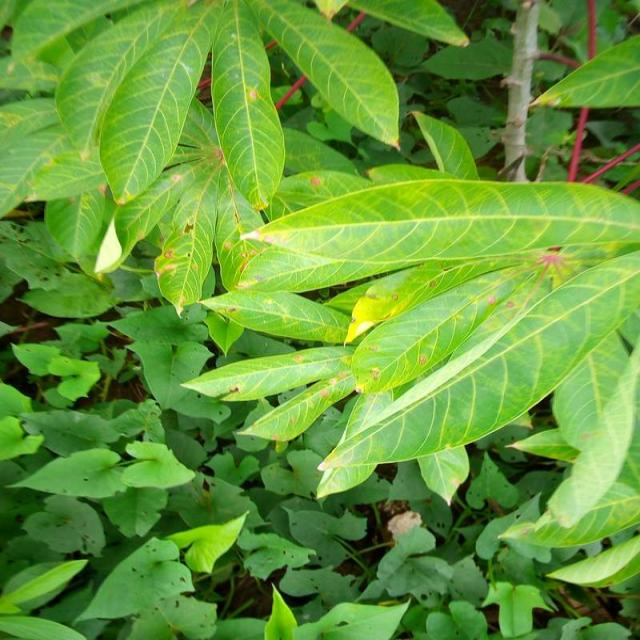cassava leaf: (1, 1, 638, 634), (186, 174, 638, 507), (226, 176, 638, 294)
